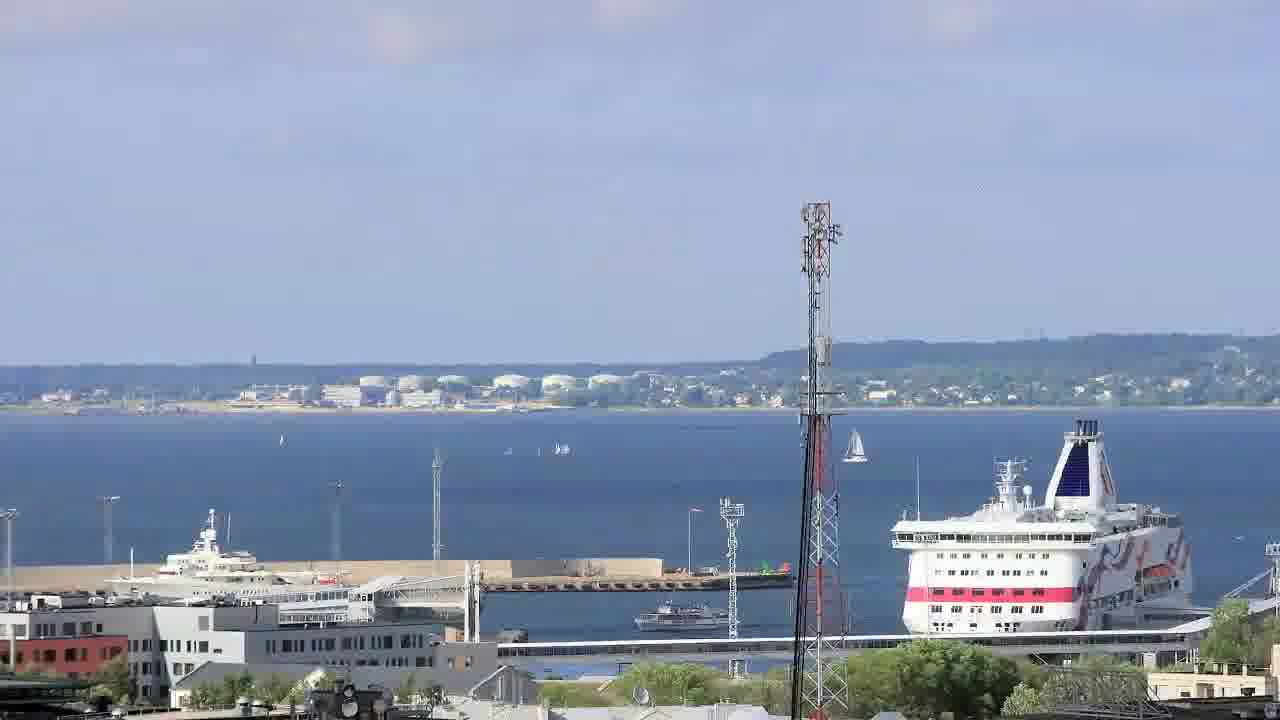type-1: (627, 585, 763, 640)
type-2: (830, 419, 892, 467)
type-3: (868, 415, 1225, 638), (84, 537, 359, 610)
